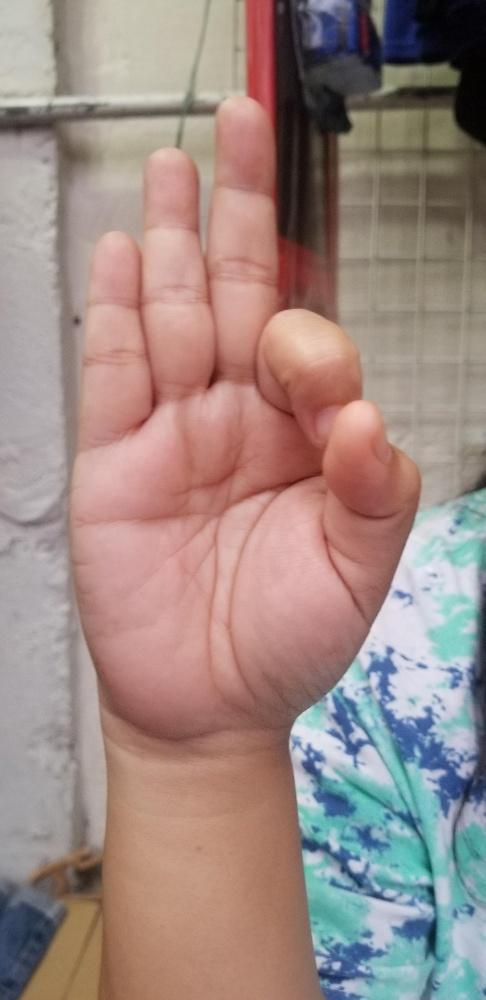f: (68, 94, 420, 738)
